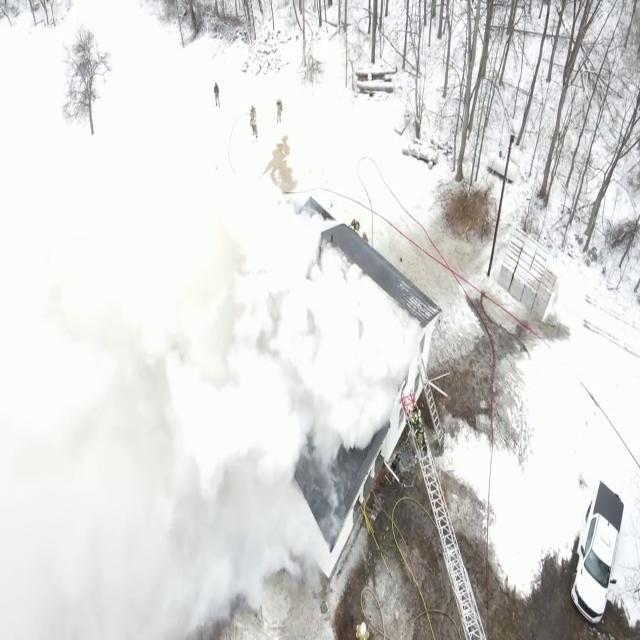Smoke: (0, 52, 426, 636)
